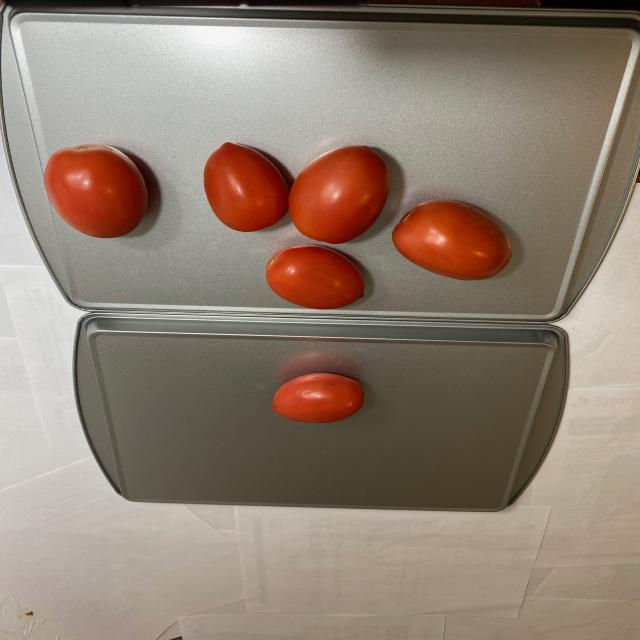tomato: (38, 146, 524, 309), (266, 371, 365, 425)
